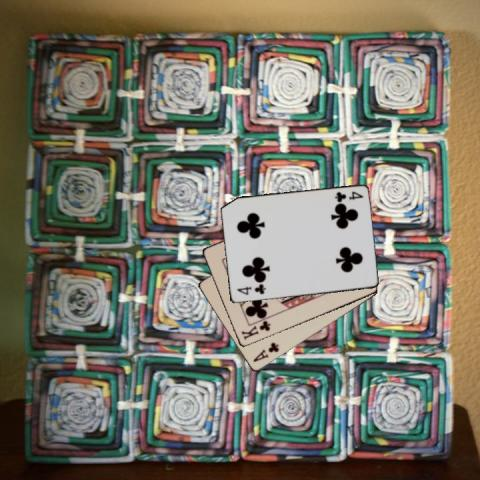4c: (234, 282, 268, 296), (332, 188, 364, 202)
Ac: (250, 340, 281, 363)
Kc: (239, 318, 272, 341)
